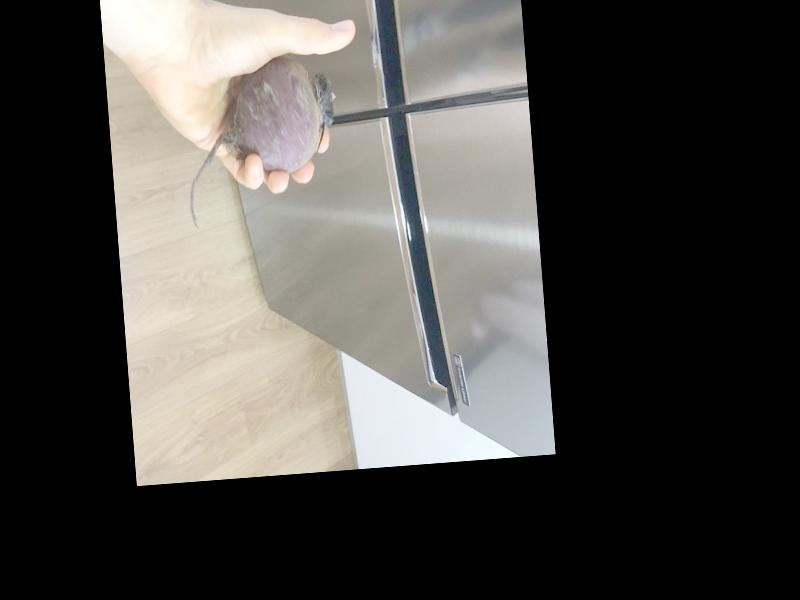Beet: (180, 52, 343, 229)
